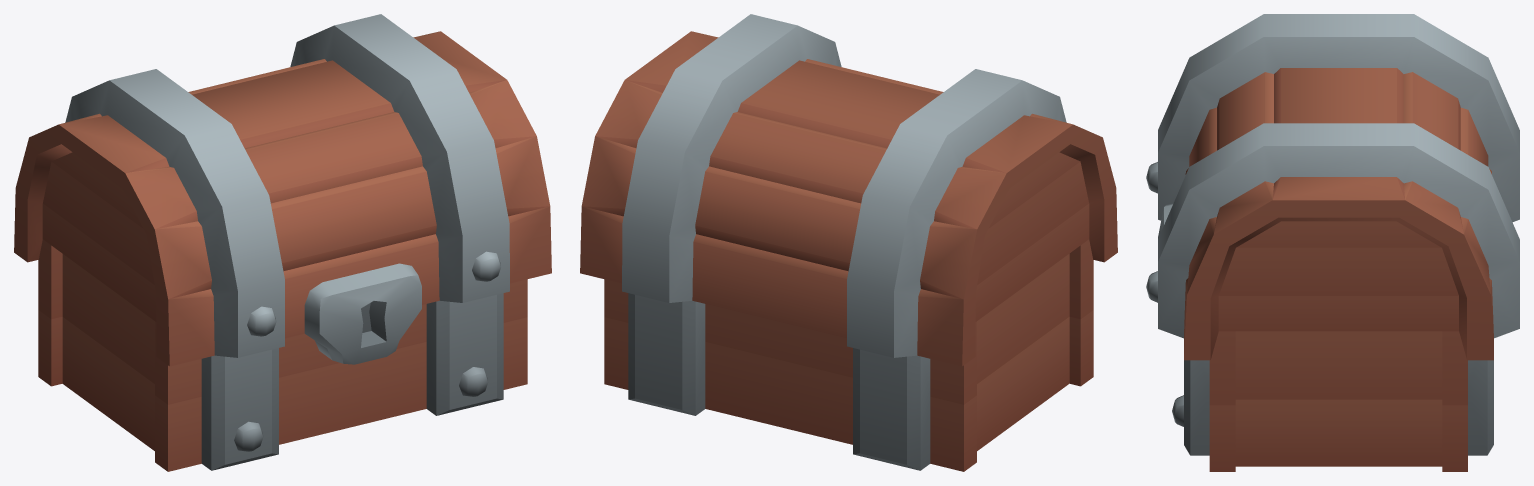
Rendered from kk_chest_gold.glb.
3 renders of one model, left to right at view 1: azimuth 30°, elevation 25°; view 2: azimuth 150°, elevation 25°; view 3: azimuth 270°, elevation 25°, orthographic.
Parts seen in each view (by area): view 1: chest_gold; view 2: chest_gold; view 3: chest_gold.
Boxes of the visible parts, x1,y1,x2,y2 form: chest_gold: (14, 14, 551, 471); chest_gold: (580, 14, 1117, 471); chest_gold: (1146, 14, 1519, 471).
Size of the model in its own units: 1.7 by 1.3 by 1.45.
Materials: 1 (1 with a texture image).
